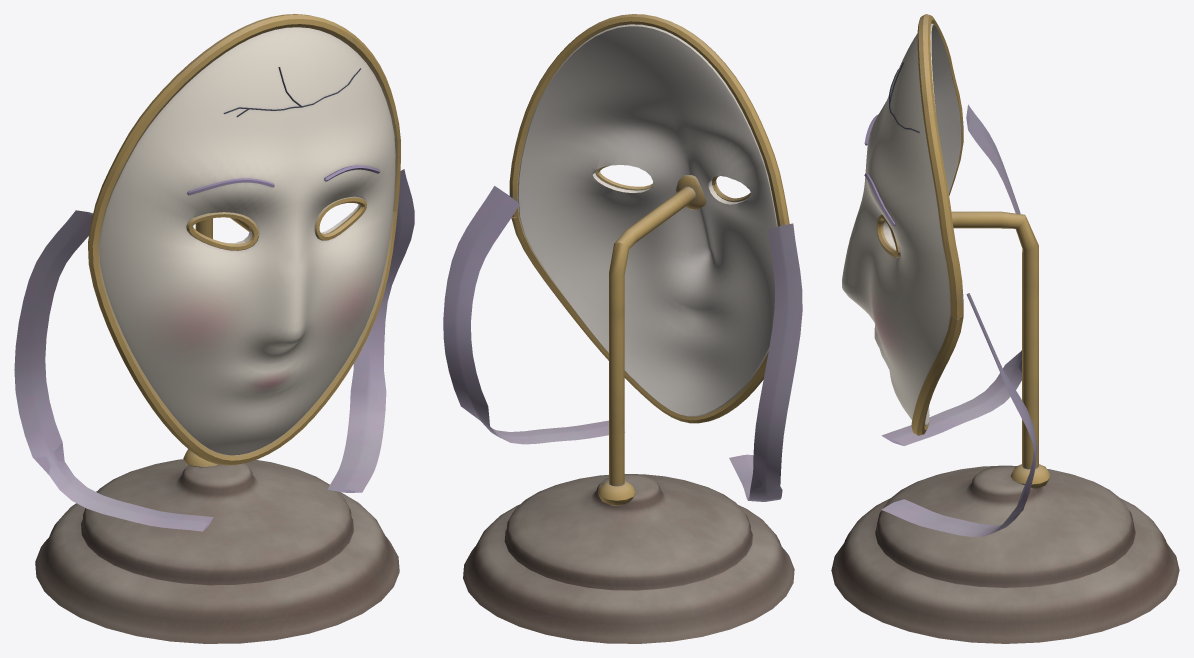
Rendered from porcelain-mask.glb.
3 views of the same model, side by side, from view 1: azimuth 30°, elevation 25°; view 2: azimuth 150°, elevation 25°; view 3: azimuth 270°, elevation 25° (orthographic). The views are drawn at different scales.
Parts seen in each view (by area): view 1: porcelain-mask_body; view 2: porcelain-mask_body; view 3: porcelain-mask_body.
Part boxes in pixels (box(x1,y1,x2,y2)): porcelain-mask_body: box(14, 14, 414, 643); porcelain-mask_body: box(443, 14, 802, 643); porcelain-mask_body: box(831, 14, 1179, 643).
Bounding box in the file's own units: 0.1704 × 0.2444 × 0.139.
1 material, 1 textured.
